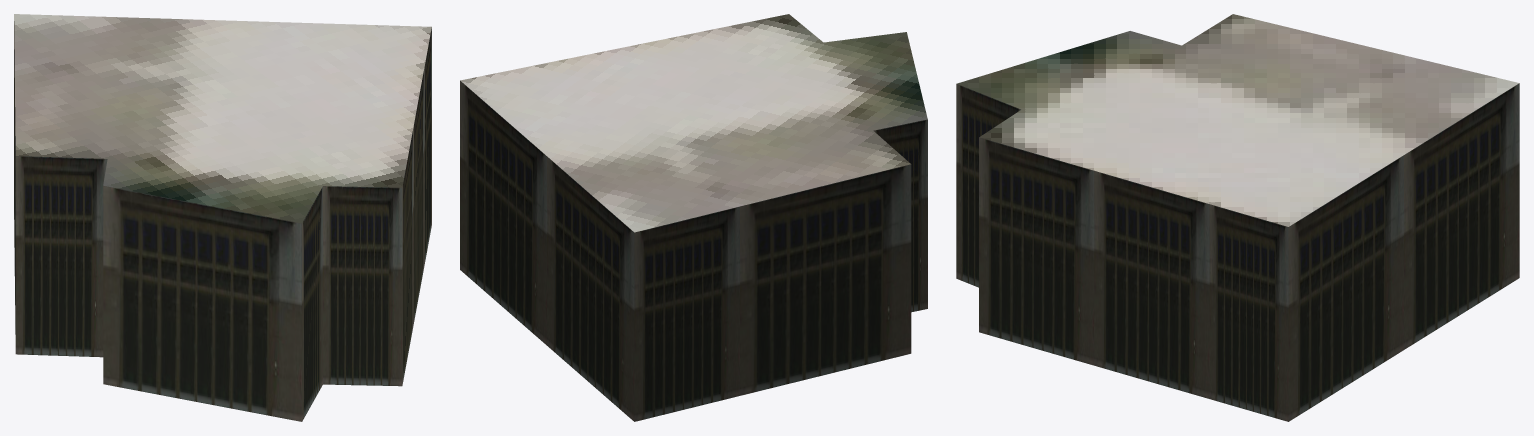
File: T_1SX1X4NUMT.dae
3 renders of one model, left to right at view 1: azimuth 30°, elevation 25°; view 2: azimuth 150°, elevation 25°; view 3: azimuth 270°, elevation 25°, orthographic. The views are drawn at different scales.
Visible parts, largest first — view 1: SketchUp (×8); view 2: SketchUp (×5); view 3: SketchUp (×5).
Boxes of the visible parts, bbox=[...] form: SketchUp (×8): bbox=[14, 14, 431, 421]; SketchUp (×5): bbox=[460, 14, 927, 421]; SketchUp (×5): bbox=[956, 14, 1519, 421].
Bounding box in the file's own units: 10.97 × 12.25 × 4.68.
2 materials, 2 textured.
